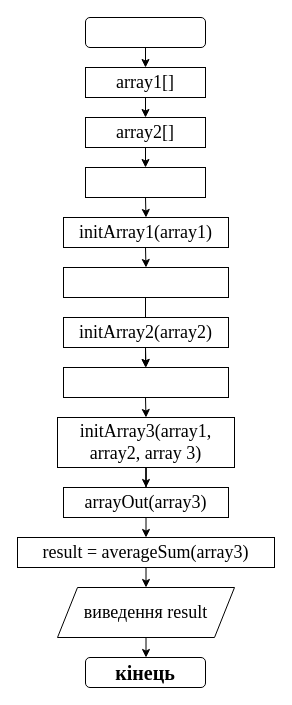
Image size: 292x705. Some labels were removed from this diagram. Each missing label, with the box of its shape:
array3[]: (84, 166, 206, 198)
arrayOut(array1): (62, 266, 228, 298)
arrayOut(array2): (62, 366, 228, 398)
початок: (84, 16, 206, 48)
